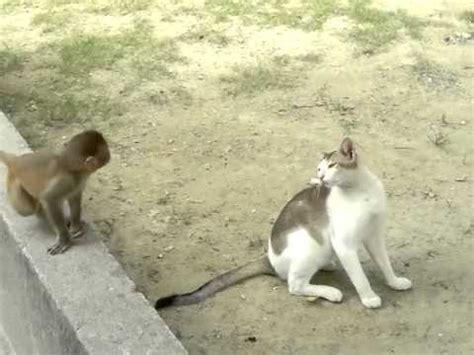cat: (154, 137, 411, 308)
monkey: (1, 130, 109, 255)
